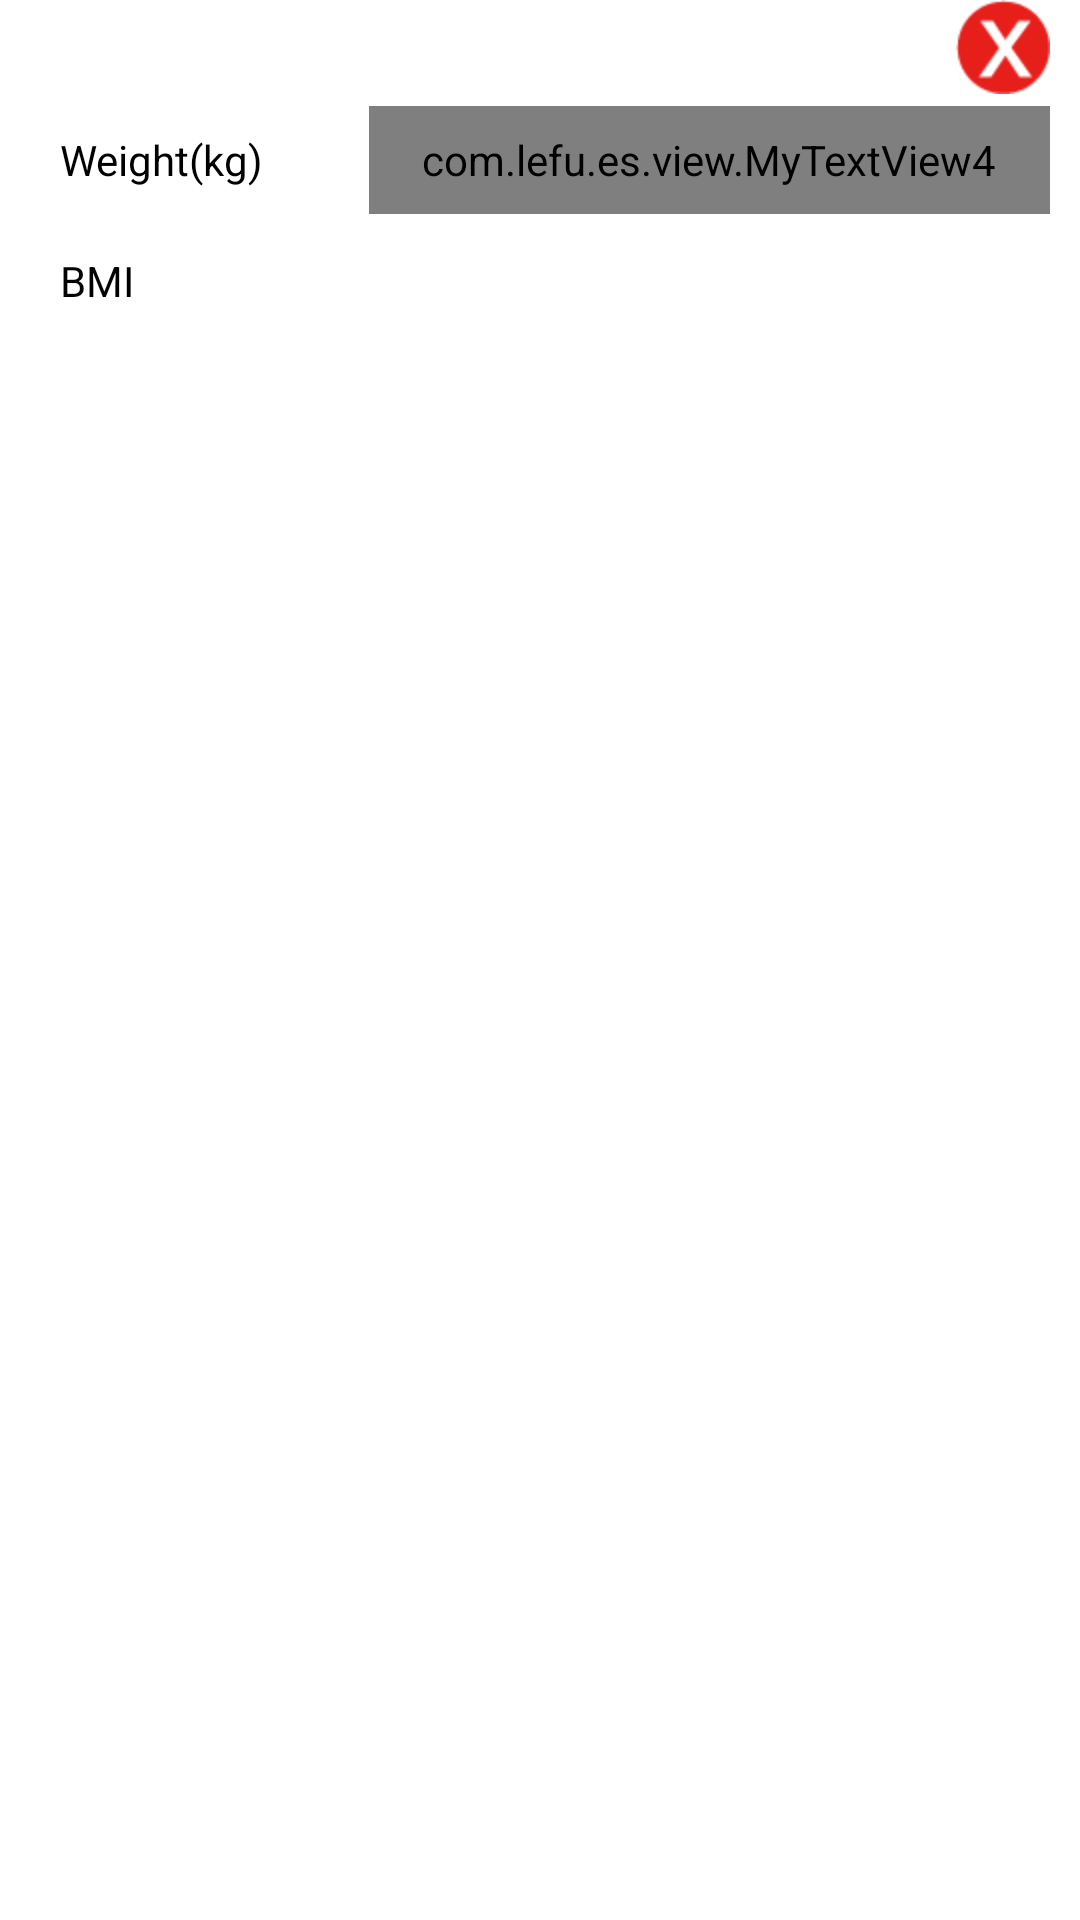

Screen size 1080px×1920px. Icon name, then its box in pixels as {"left": x1, "top": y1, "right": x2, "bottom": y2}:
cha: {"left": 956, "top": 0, "right": 1050, "bottom": 94}
